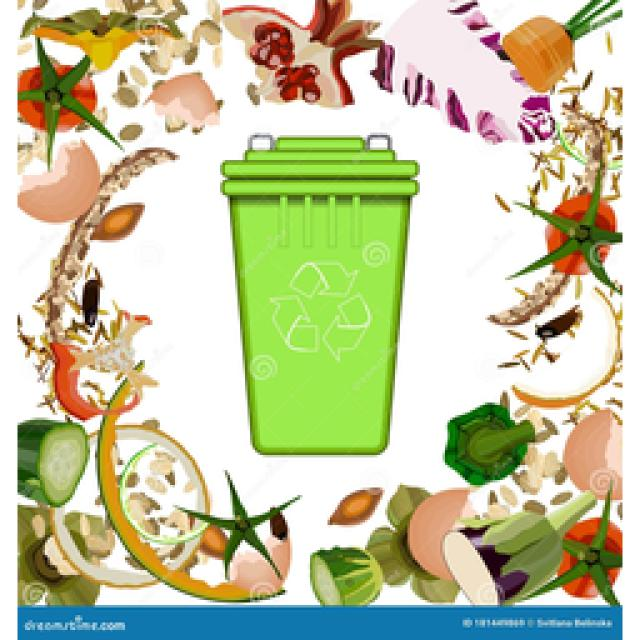food_waste: (18, 0, 295, 600), (220, 0, 620, 325), (310, 410, 620, 602), (510, 290, 618, 408), (142, 72, 218, 128)
